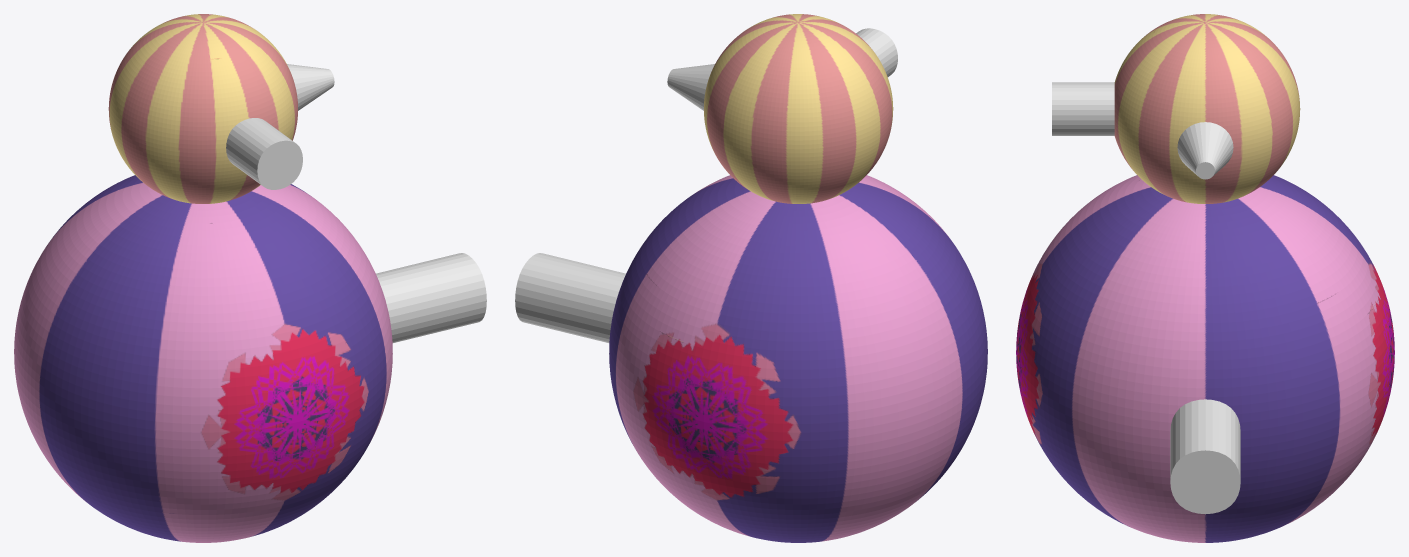
The model's file is BOD0_BMC17_BCC9_BPT2_FRC8_HEA0_HMC13_HCC11_HPT2_ELT0_ERT2_ELL0_ERL0_AP2_AAL0_AAR1_BEK1.fbx.
3 views of the same model, side by side, from view 1: azimuth 30°, elevation 25°; view 2: azimuth 150°, elevation 25°; view 3: azimuth 270°, elevation 25° (orthographic).
Visible parts, largest first — view 1: Body, Arm, Beak, Ear; view 2: Body, Arm, Ear, Beak; view 3: Body, Arm, Beak, Ear.
Part boxes in pixels (<box>): Body: <box>14,14,392,542</box>; Arm: <box>376,253,486,342</box>; Beak: <box>226,118,302,189</box>; Ear: <box>287,64,334,110</box>; Body: <box>609,14,987,542</box>; Arm: <box>515,253,625,342</box>; Ear: <box>667,64,714,110</box>; Beak: <box>856,28,897,76</box>; Body: <box>1016,14,1394,542</box>; Arm: <box>1170,399,1240,514</box>; Beak: <box>1052,82,1114,135</box>; Ear: <box>1177,122,1233,179</box>.
Bounding box in the file's own units: 64.68 × 72.41 × 49.36.
1 material, 1 textured.
